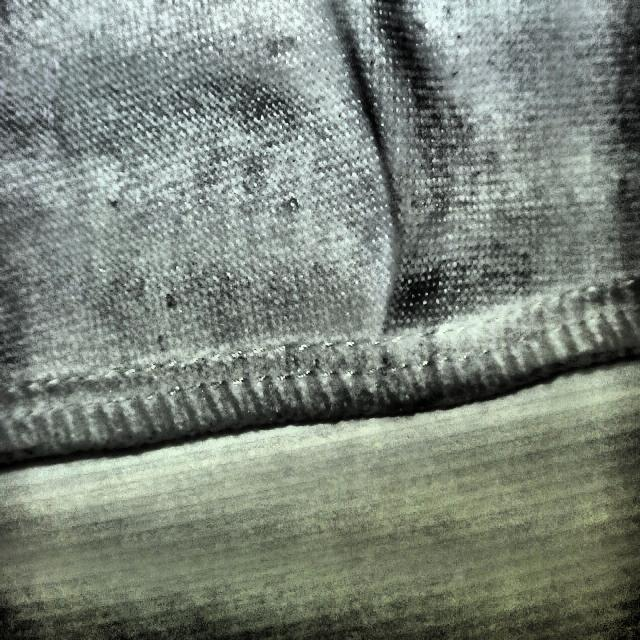gray stitch: (334, 117, 489, 419)
